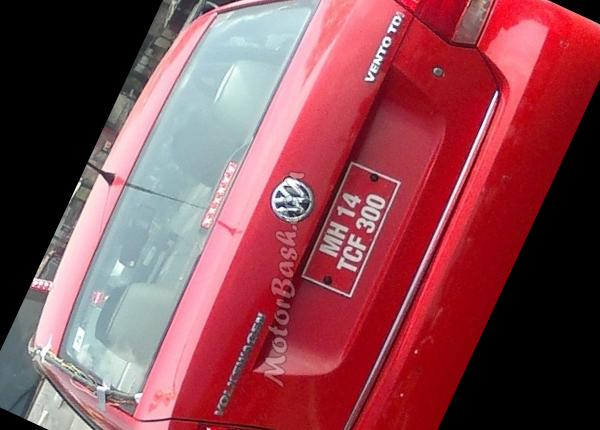plate: (290, 151, 413, 303)
